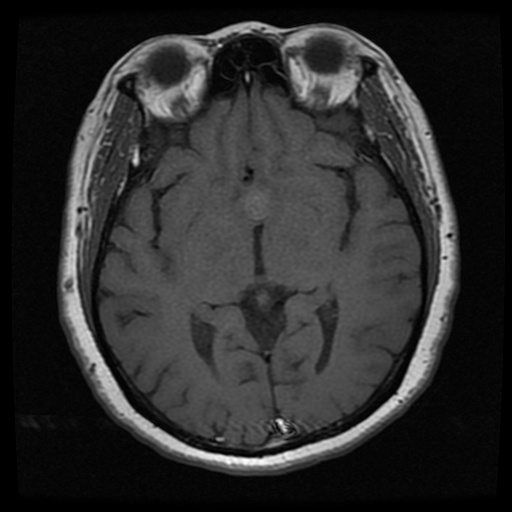pituitary: (239, 183, 277, 218)
